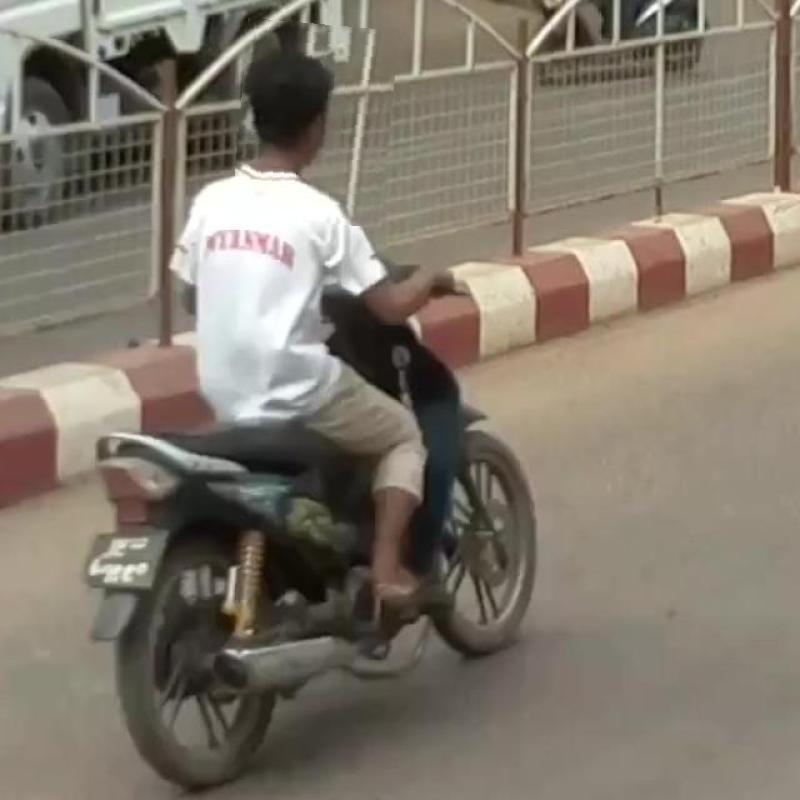nohelmet: (235, 21, 394, 225)
